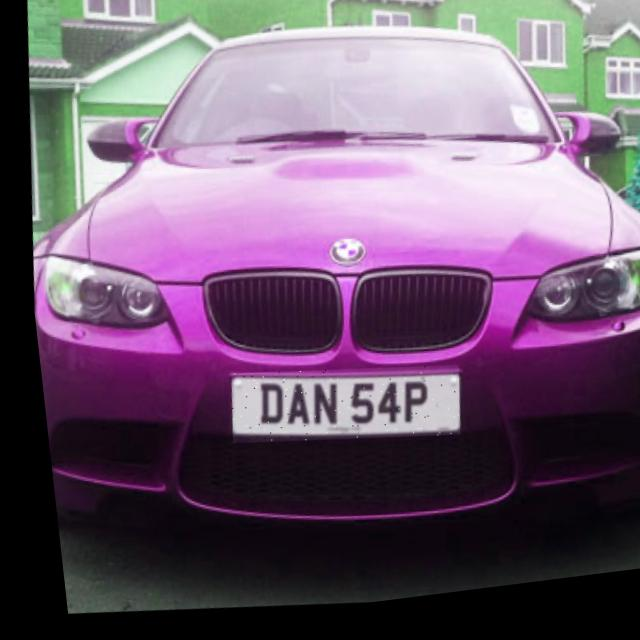license_plate: (216, 356, 454, 467)
